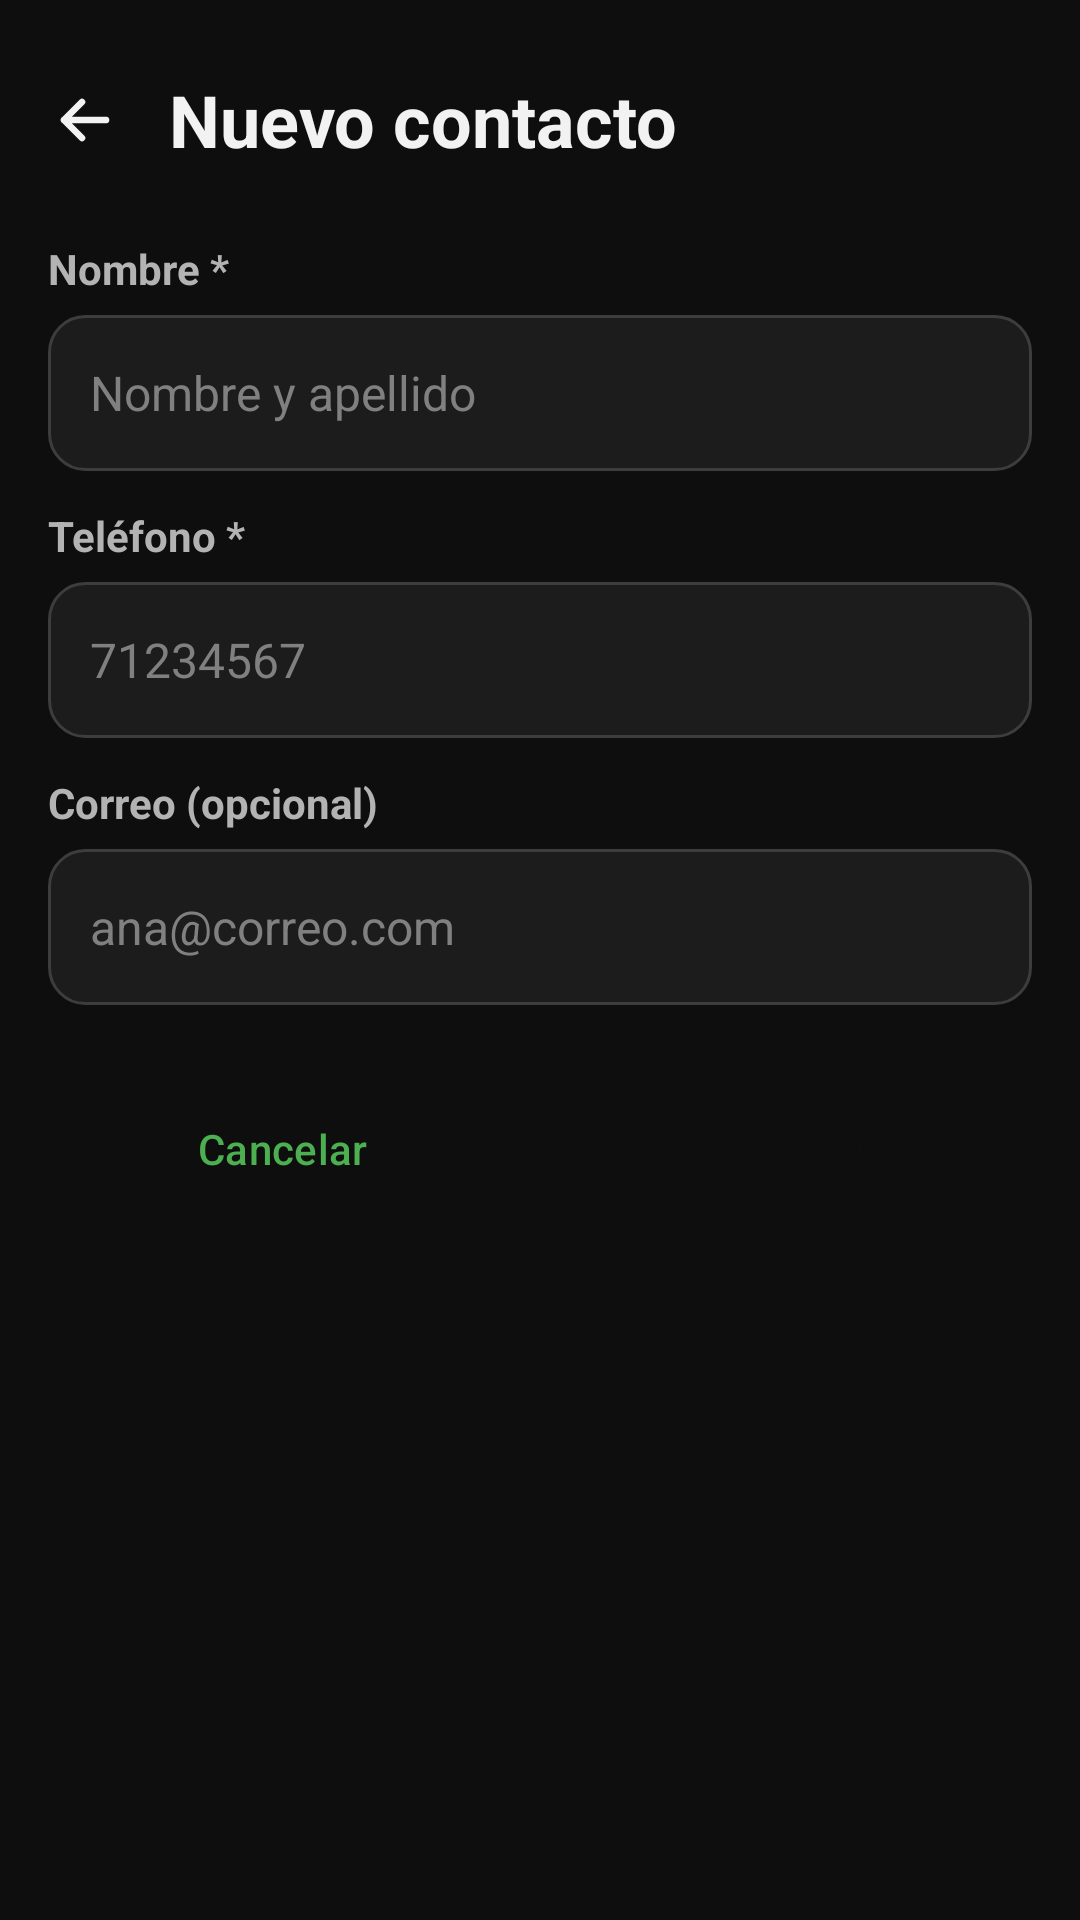

Icon bounding boxes for this 1080px×1920px phone screenshot, format (x1, y1, x2, y2):
Volver: (60, 98, 110, 142)
